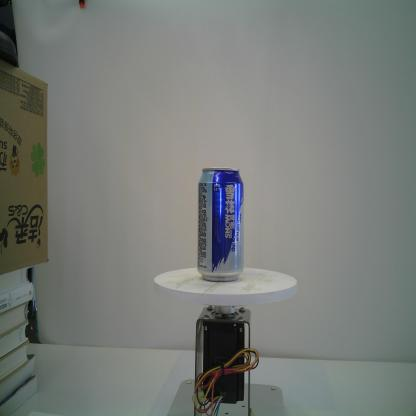Alcohol: (196, 167, 245, 284)
